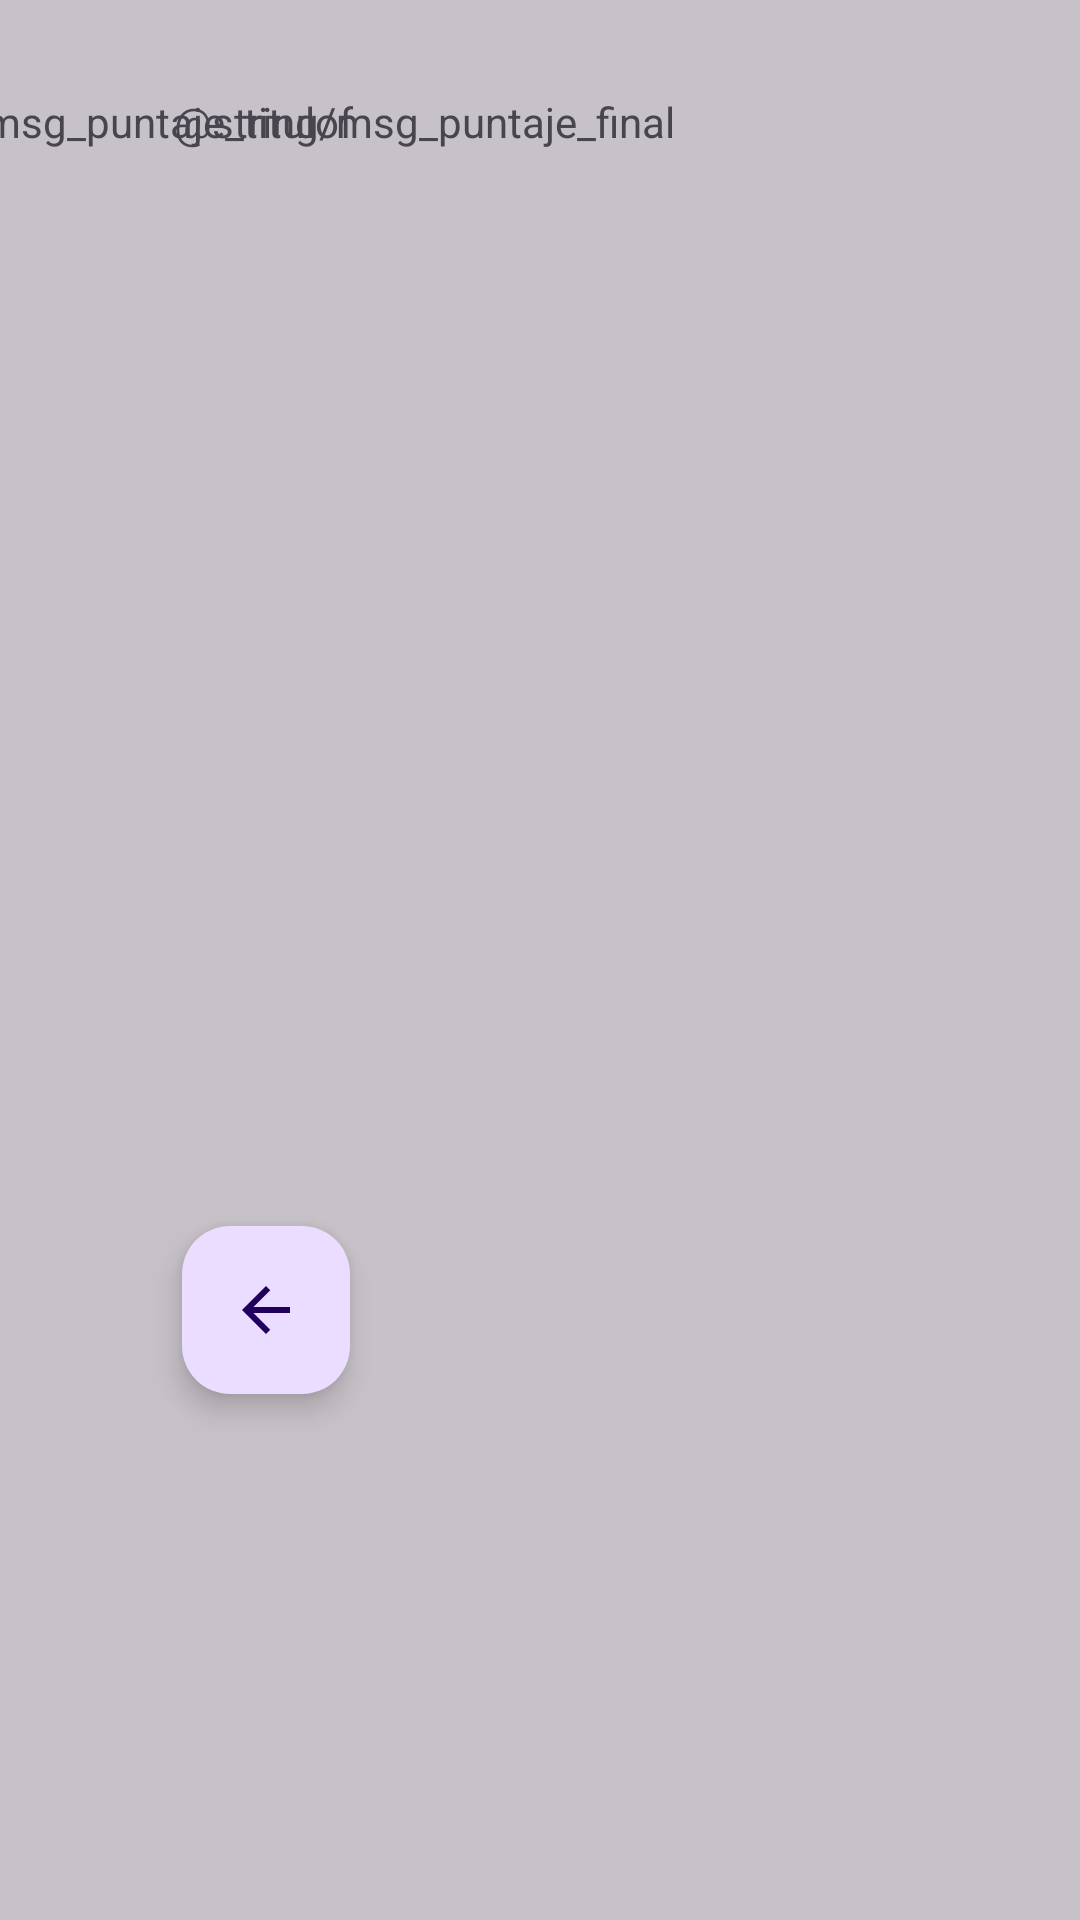

Icons on this 1080px x 1920px Android screen, each with the point to tap as (x,y):
atras: (266,1310)
